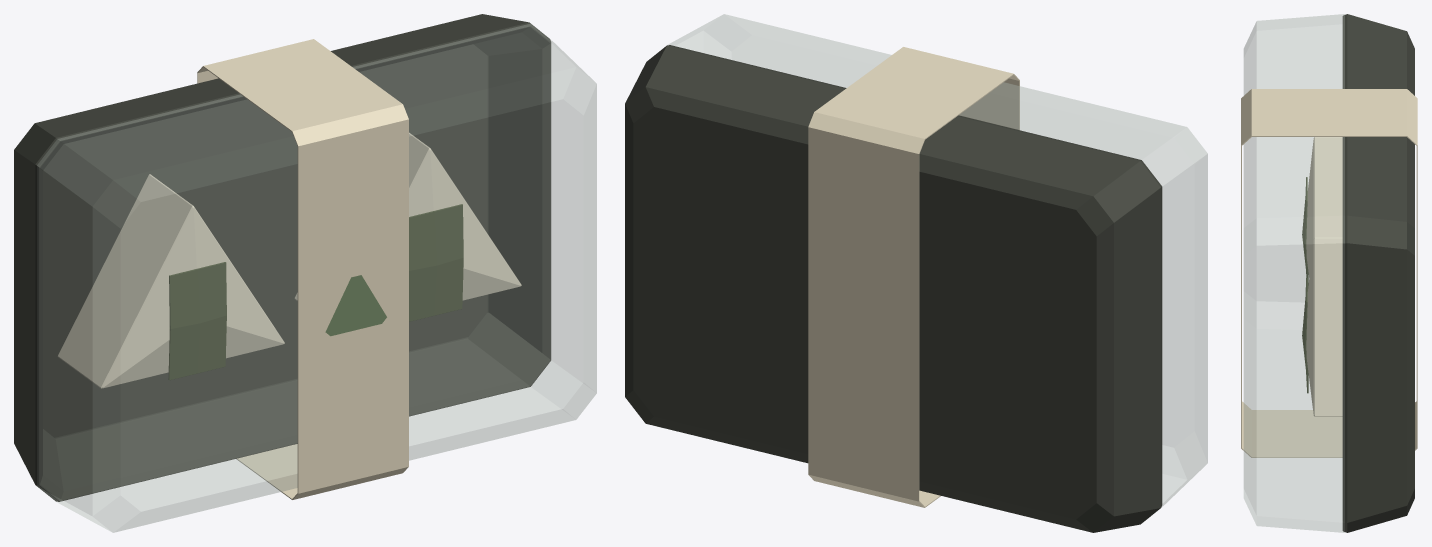
File: onigiri.glb
The picture shows the model from 3 angles, left to right: view 1: azimuth 30°, elevation 25°; view 2: azimuth 150°, elevation 25°; view 3: azimuth 270°, elevation 25°; orthographic projection. The views are drawn at different scales.
Parts seen in each view (by area): view 1: onigiri; view 2: onigiri; view 3: onigiri.
Boxes of the visible parts, <box> form: onigiri: <box>14,14,596,532</box>; onigiri: <box>625,14,1207,532</box>; onigiri: <box>1241,14,1417,532</box>.
Bounding box in the file's own units: 0.2 × 0.137 × 0.0698.
